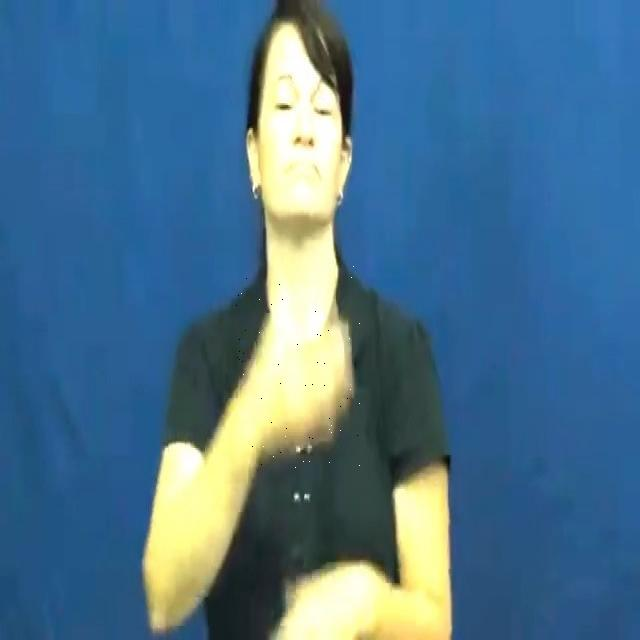lid: (237, 264, 361, 470)
